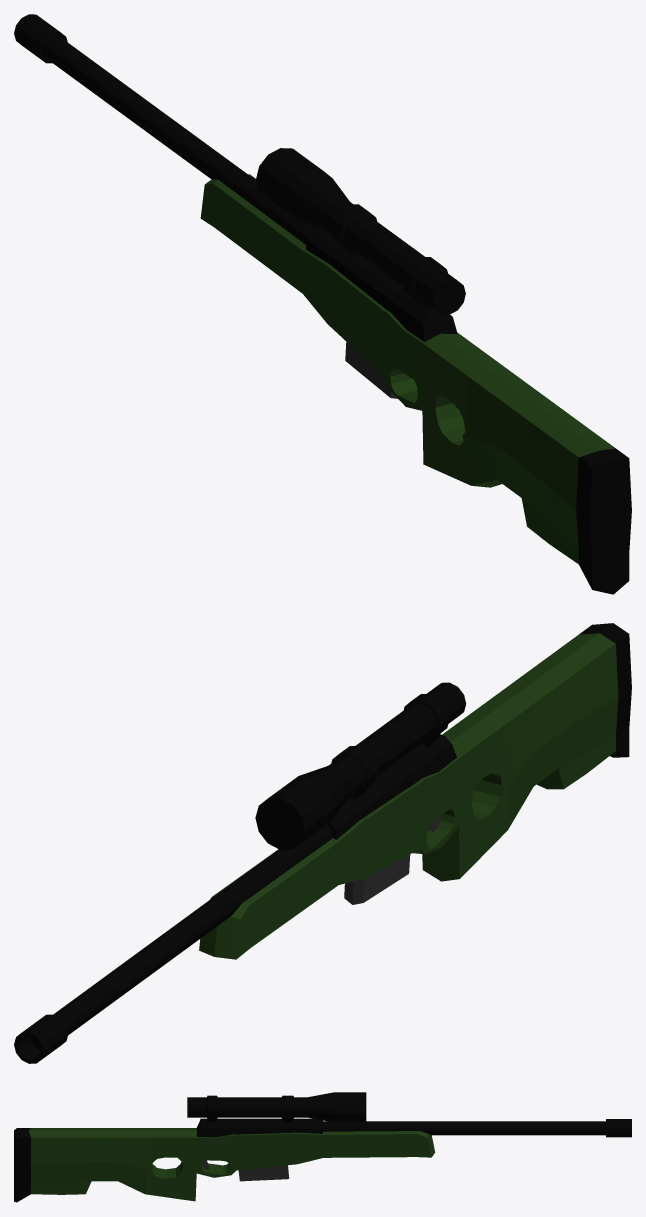
File: Sniper.fbx
3 views of the same model, one above another, from view 1: azimuth 30°, elevation 25°; view 2: azimuth 150°, elevation 25°; view 3: azimuth 270°, elevation 25° (orthographic). The views are drawn at different scales.
Parts seen in each view (by area): view 1: Weapon_06_DarkGreen_0, Weapon_06_Black_0, Weapon_06_DarkGray_0; view 2: Weapon_06_DarkGreen_0, Weapon_06_Black_0, Weapon_06_DarkGray_0; view 3: Weapon_06_DarkGreen_0, Weapon_06_Black_0, Weapon_06_DarkGray_0.
Boxes of the visible parts, box(x1,y1,x2,y2) form: Weapon_06_DarkGreen_0: box(200, 174, 615, 563); Weapon_06_Black_0: box(14, 14, 631, 594); Weapon_06_DarkGray_0: box(345, 342, 397, 398); Weapon_06_DarkGreen_0: box(199, 633, 618, 959); Weapon_06_Black_0: box(14, 623, 631, 1063); Weapon_06_DarkGray_0: box(344, 815, 441, 904); Weapon_06_DarkGreen_0: box(28, 1128, 435, 1201); Weapon_06_Black_0: box(14, 1092, 631, 1202); Weapon_06_DarkGray_0: box(202, 1160, 289, 1181).
Bounding box in the file's own units: 374 × 1473 × 7661.
